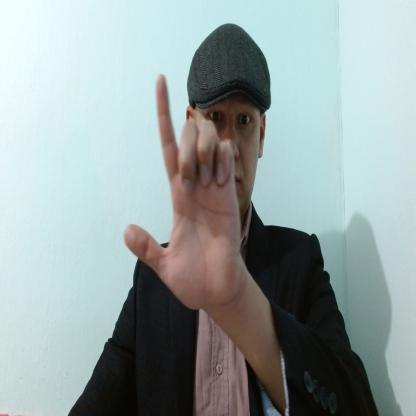L: (125, 74, 239, 310)
